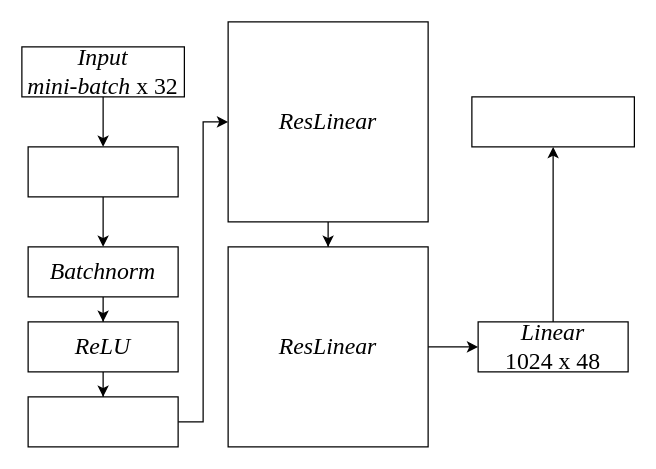
Some shapes in this 656 by 469 pixel diagram are drawn without their labels. The shapes that lost their labels are listed below. From the top down, each one's centre as x and y in pixels, then its label:
At (x=552, y=121): "Output mini-batch x 48".
At (x=102, y=171): "Linear 32 x 1024".
At (x=102, y=421): "Dropout".
